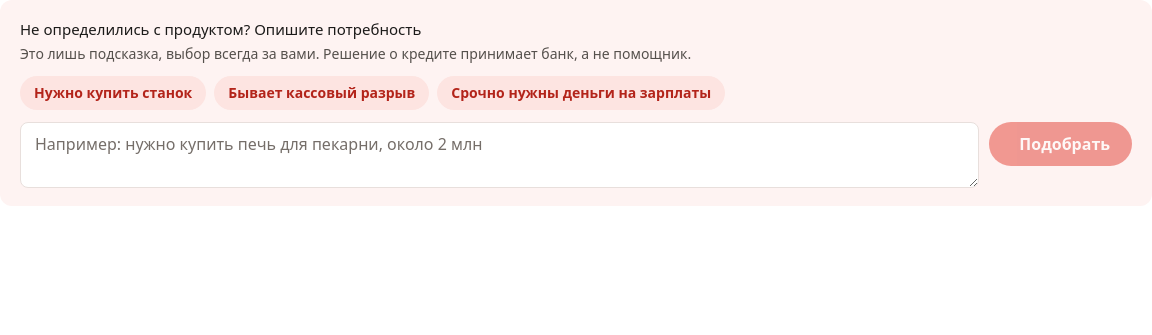
Scenario: Assistant › says honestly when it cannot help right now
This screenshot has width=1152, height=335.
In the text box named "Опишите, на что нужны деньги": [500, 155] box [20,122,979,188], type "нужны деньги"
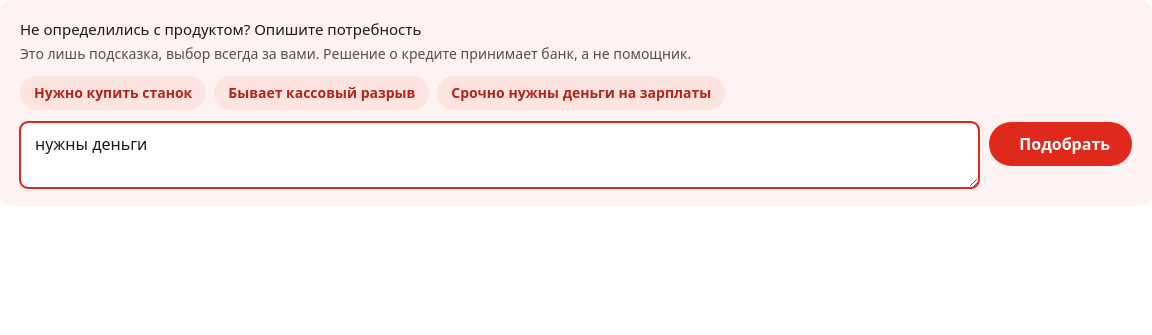
Click the button "Подобрать": [1061, 144] box [989,122,1132,166]
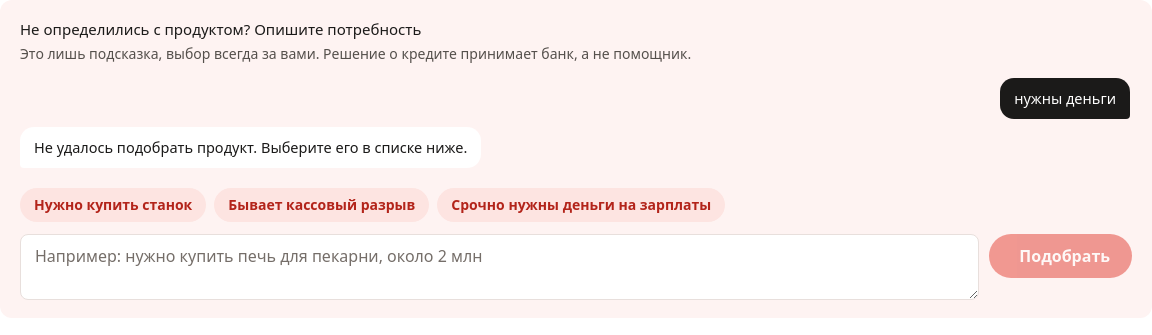
Result: the text "Не удалось подобрать продукт. Выберите его в списке ниже." is shown at [20,126,481,168]
